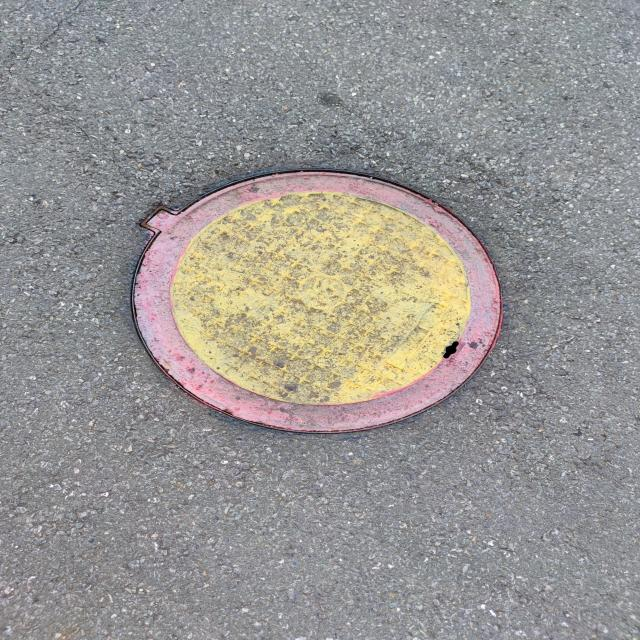Good: (119, 168, 512, 438)
